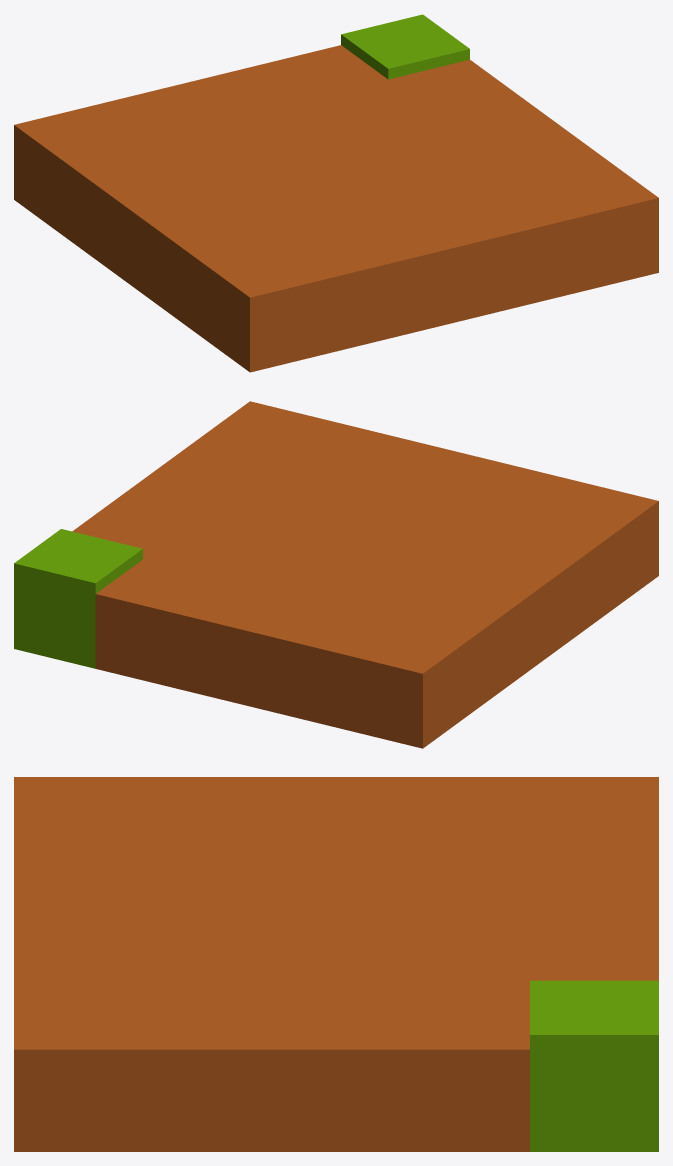
Rendered from TileGround_24.fbx.
3 views of the same model, one above another, from view 1: azimuth 30°, elevation 25°; view 2: azimuth 150°, elevation 25°; view 3: azimuth 270°, elevation 25° (orthographic). The views are drawn at different scales.
Visible parts, largest first — view 1: TileGround_24; view 2: TileGround_24; view 3: TileGround_24.
Boxes of the visible parts, x1,y1,x2,y2 form: TileGround_24: [14, 14, 658, 372]; TileGround_24: [14, 401, 658, 748]; TileGround_24: [14, 777, 658, 1151].
Size of the model in its own units: 500 by 100 by 500.
